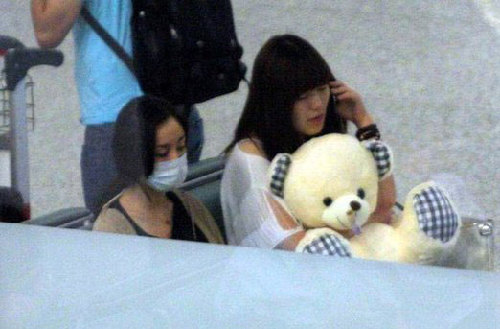face: (289, 80, 329, 133)
face_mask: (145, 120, 187, 192)
